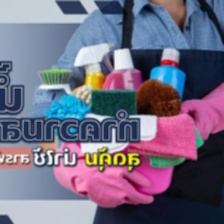cleaning_solution: (94, 46, 149, 161), (73, 40, 121, 161), (141, 43, 189, 162)
